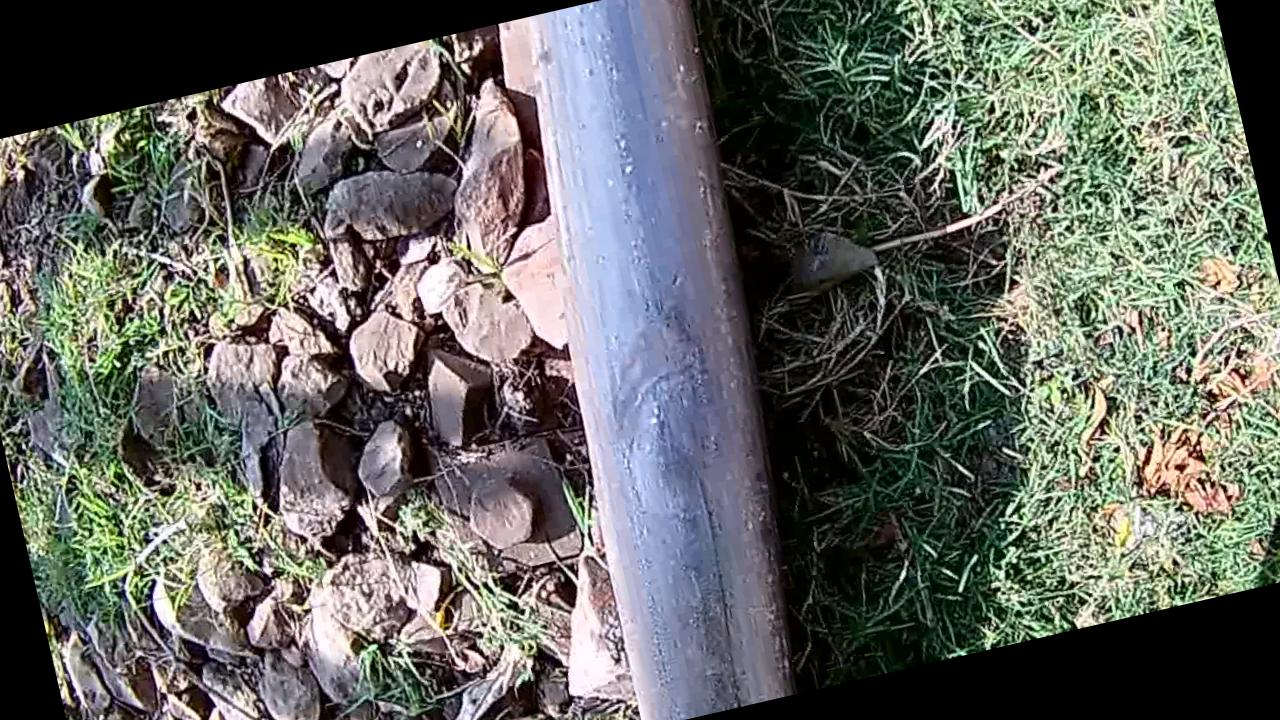bolt_missing: (544, 218, 796, 620)
